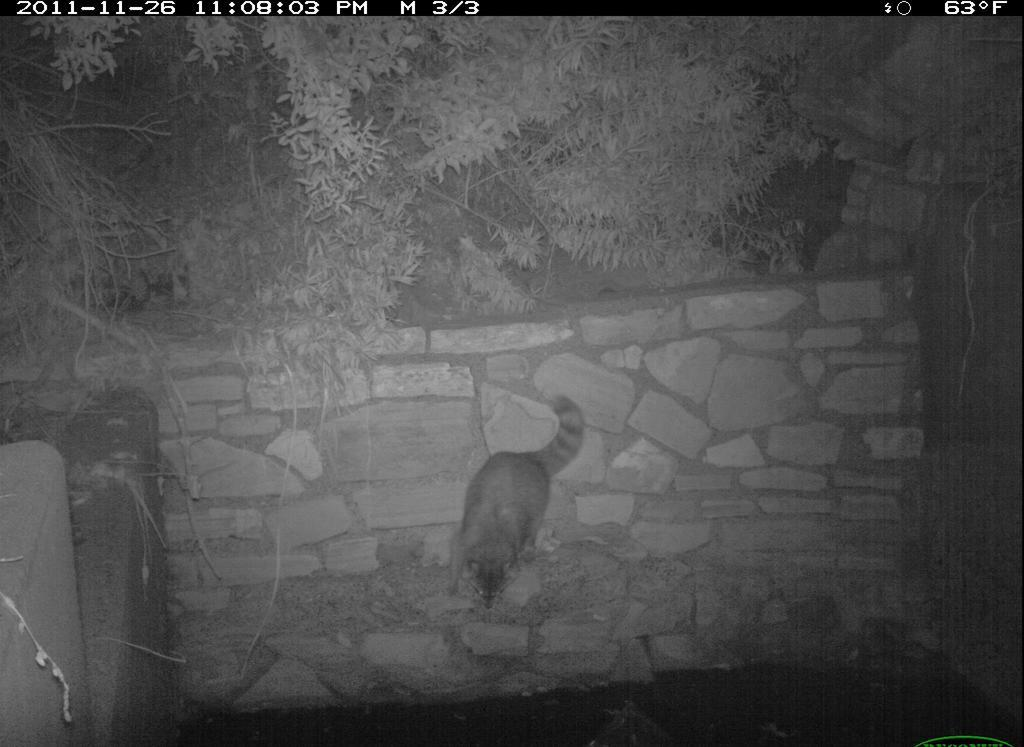raccoon: (425, 391, 594, 626)
